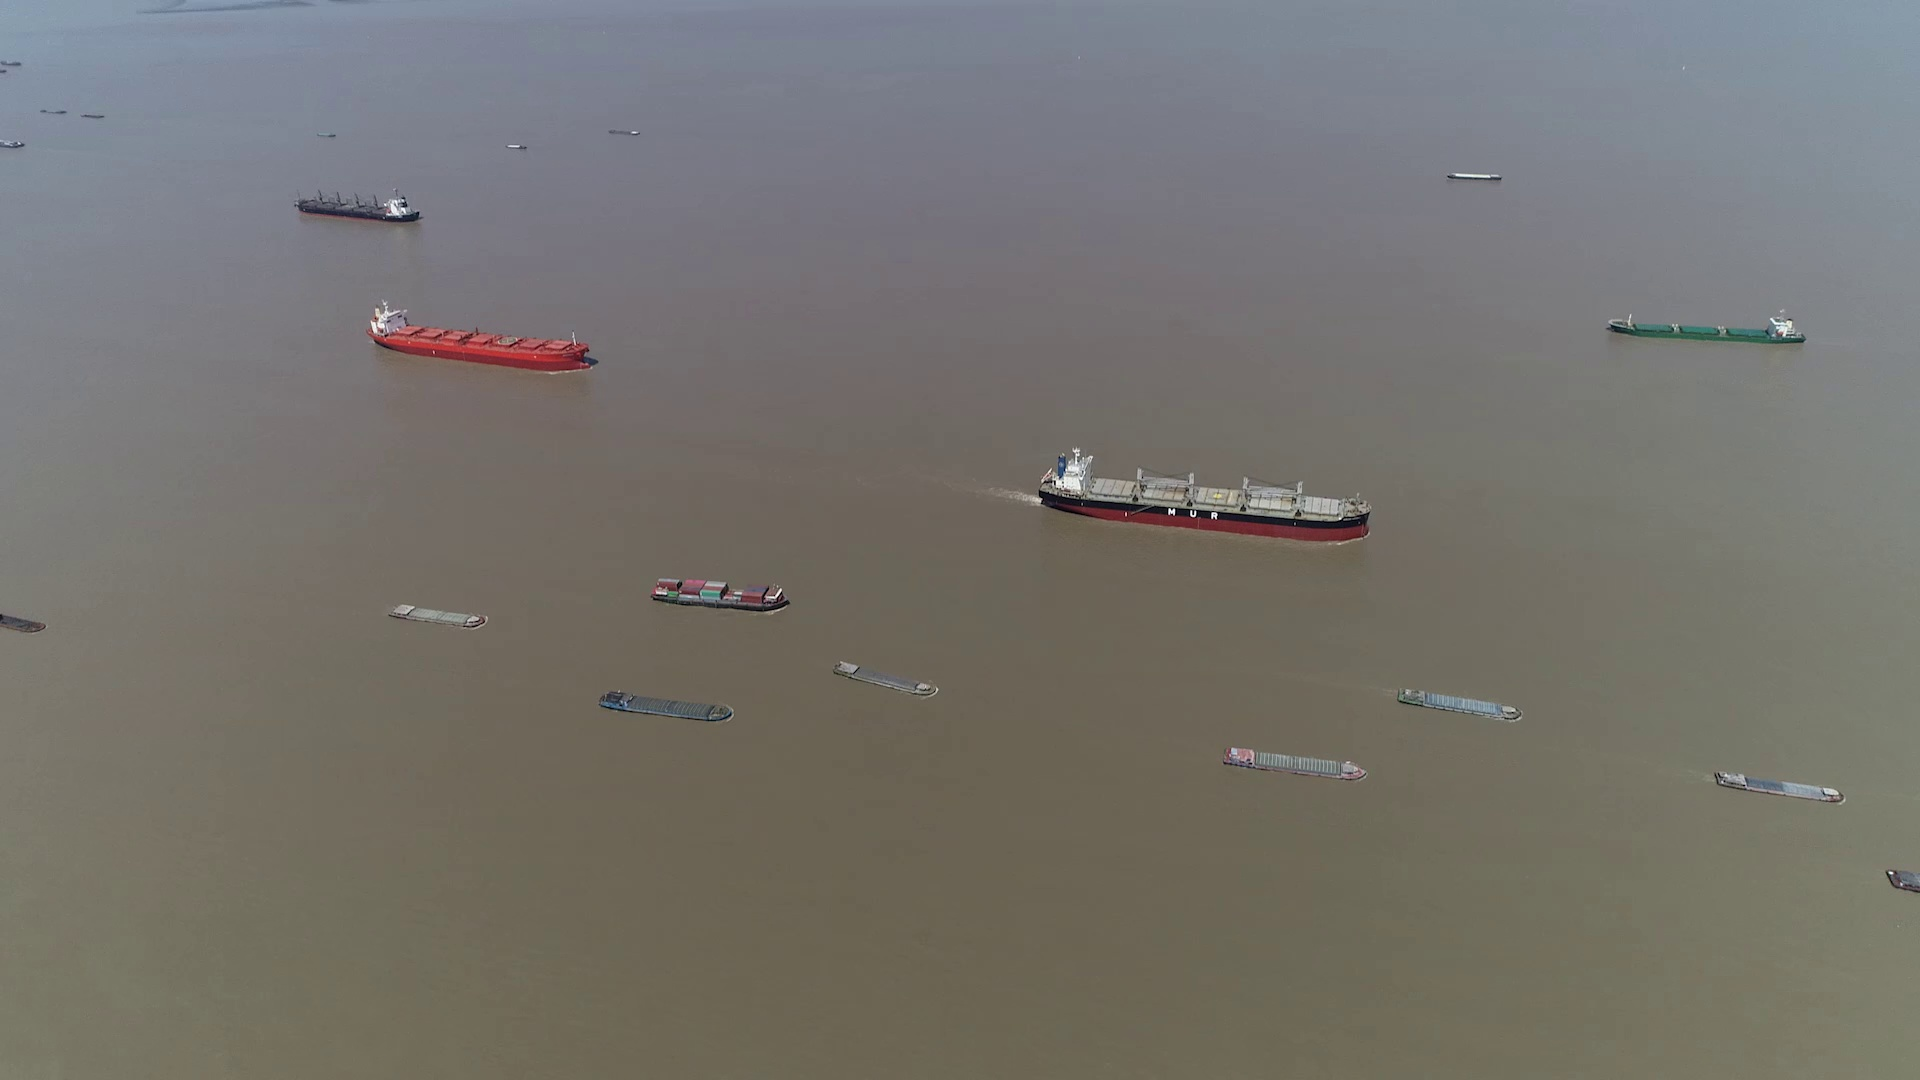ship: (1040, 448, 1369, 542), (367, 302, 592, 372), (1606, 313, 1813, 344), (1224, 744, 1365, 781), (651, 578, 790, 613), (597, 690, 735, 723), (1398, 687, 1524, 723), (295, 189, 422, 223), (1714, 770, 1845, 802), (832, 659, 943, 696), (389, 603, 487, 626), (0, 607, 46, 636), (1884, 868, 1919, 895), (1449, 173, 1502, 182), (0, 138, 24, 146), (1, 61, 20, 69)
